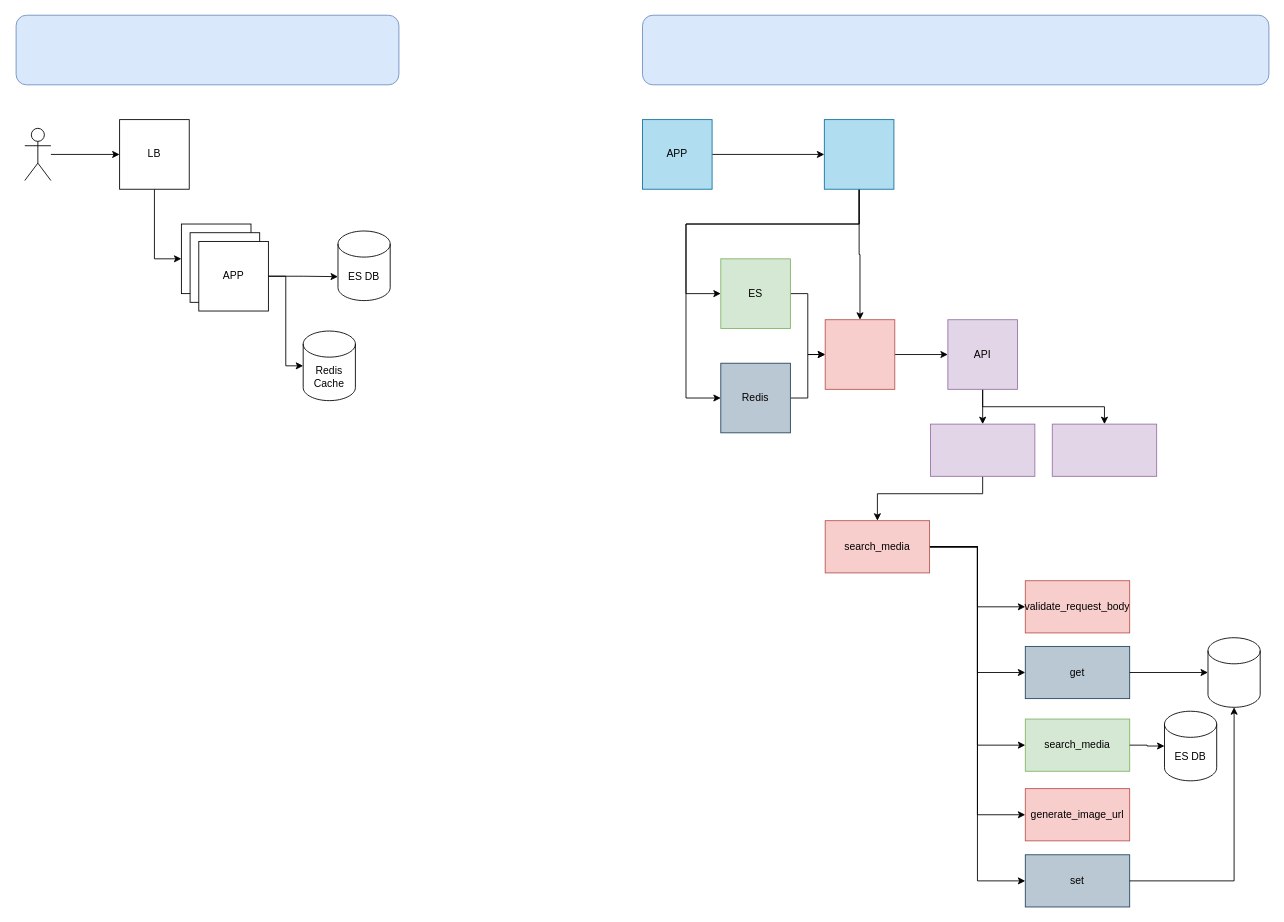
Image size: 1284x922. Some labels were removed from this diagram. The shapes that lost their labels are listed below. From the top down, each one's centre as x and y in pixels, then its label:
At point 207,49: "System Design".
At point 955,49: "App Design".
At point 37,154: "Customer".
At point 858,154: "MAIN".
At point 859,354: "Service".
At point 982,449: "/api/media/search".
At point 1104,449: "/health".
At point 1233,672: "Redis DB".
